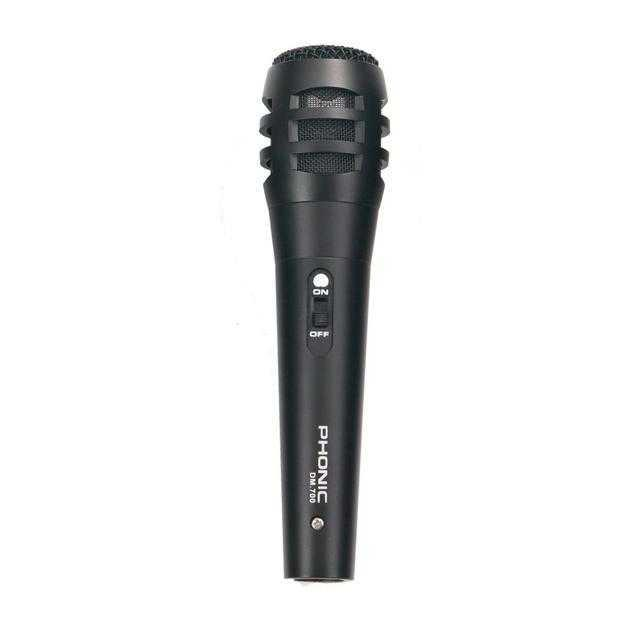microphone: (242, 30, 398, 592)
